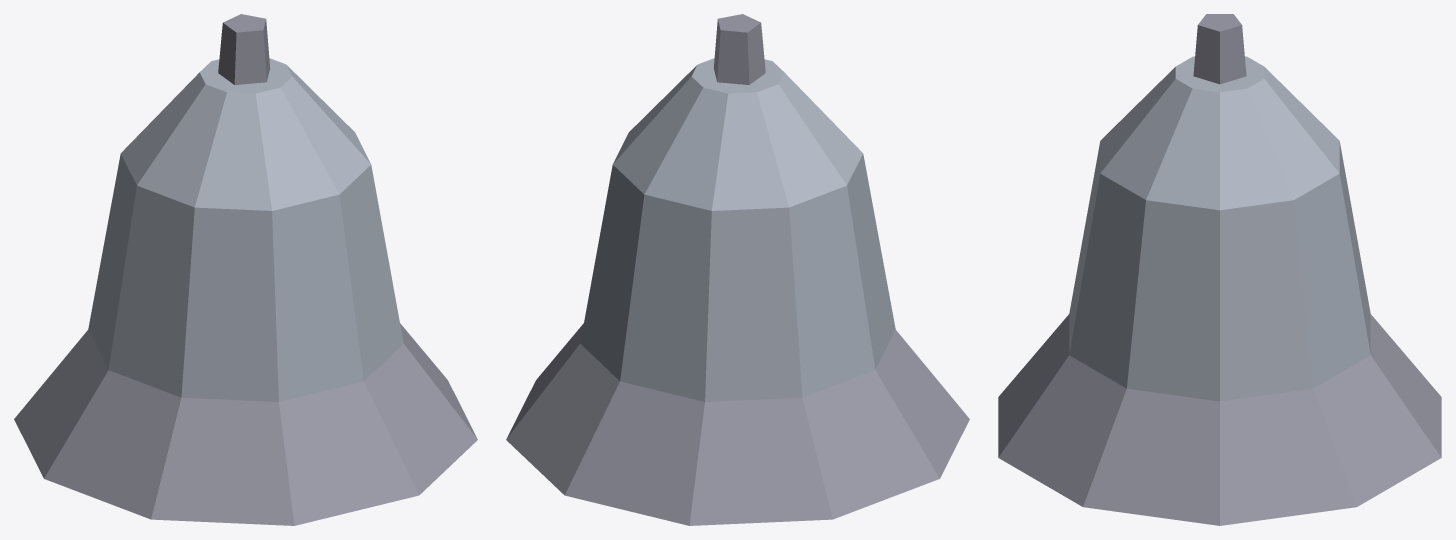
File: silver.glb
3 renders of one model, left to right at view 1: azimuth 30°, elevation 25°; view 2: azimuth 150°, elevation 25°; view 3: azimuth 270°, elevation 25°, orthographic.
Parts seen in each view (by area): view 1: Model; view 2: Model; view 3: Model.
Part boxes in pixels (<box>): Model: <box>14,14,477,525</box>; Model: <box>506,14,969,525</box>; Model: <box>998,14,1441,525</box>.
Bounding box in the file's own units: 0.86 × 0.9202 × 0.8179.
1 material, 1 textured.
